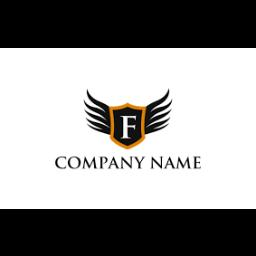a: (109, 152, 119, 170), (165, 154, 175, 170)
c: (50, 150, 68, 172)
e: (192, 154, 202, 170)
f: (120, 112, 138, 140)
m: (83, 154, 97, 172), (176, 156, 192, 170)
n: (122, 154, 134, 172), (150, 154, 164, 168)
o: (66, 152, 80, 170)
p: (99, 155, 109, 171)
y: (132, 152, 146, 170)
